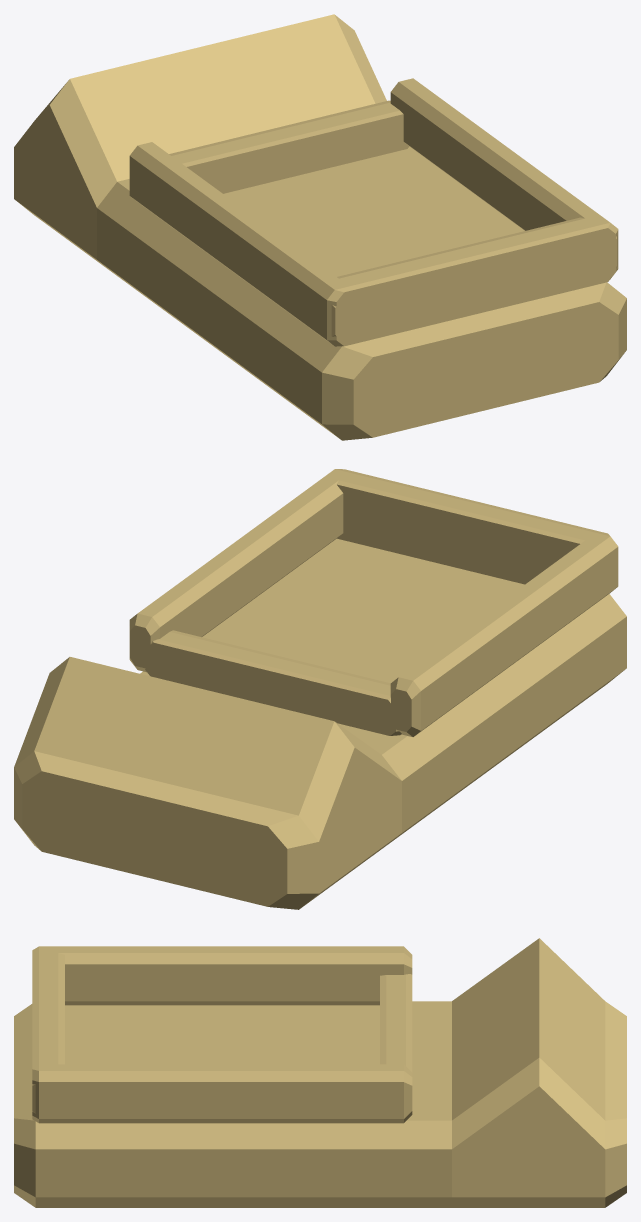
File: tallow_heavy_c.glb
3 renders of one model, top to bottom at view 1: azimuth 30°, elevation 25°; view 2: azimuth 150°, elevation 25°; view 3: azimuth 270°, elevation 25°, orthographic. The views are drawn at different scales.
Visible parts, largest first — view 1: tallow_heavy_c; view 2: tallow_heavy_c; view 3: tallow_heavy_c.
Boxes of the visible parts, x1,y1,x2,y2 form: tallow_heavy_c: [14, 14, 626, 440]; tallow_heavy_c: [14, 469, 626, 909]; tallow_heavy_c: [14, 938, 626, 1207].
Size of the model in its own units: 4.2 by 2.14 by 7.9.
